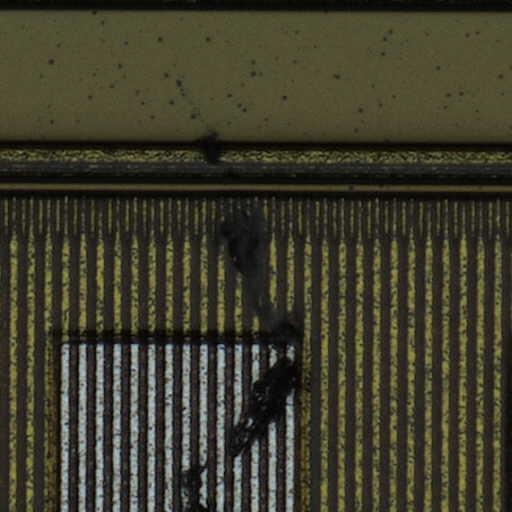SCRATCH: (167, 103, 321, 512)
